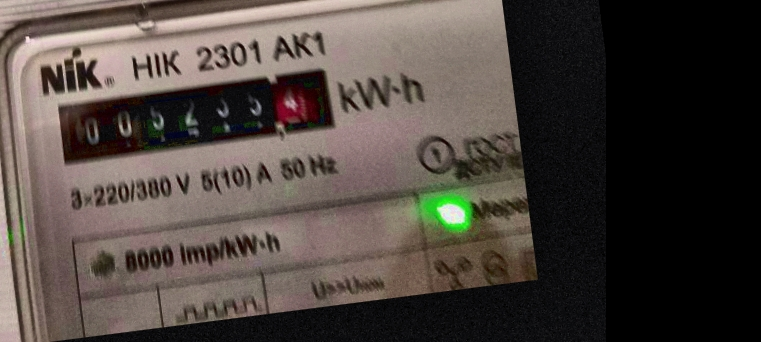0: (112, 105, 136, 140), (81, 113, 103, 146)
2: (177, 93, 202, 130)
3: (209, 87, 237, 123)
4: (277, 78, 303, 117)
5: (242, 82, 269, 120), (146, 99, 169, 134)
screen: (38, 53, 349, 178)
